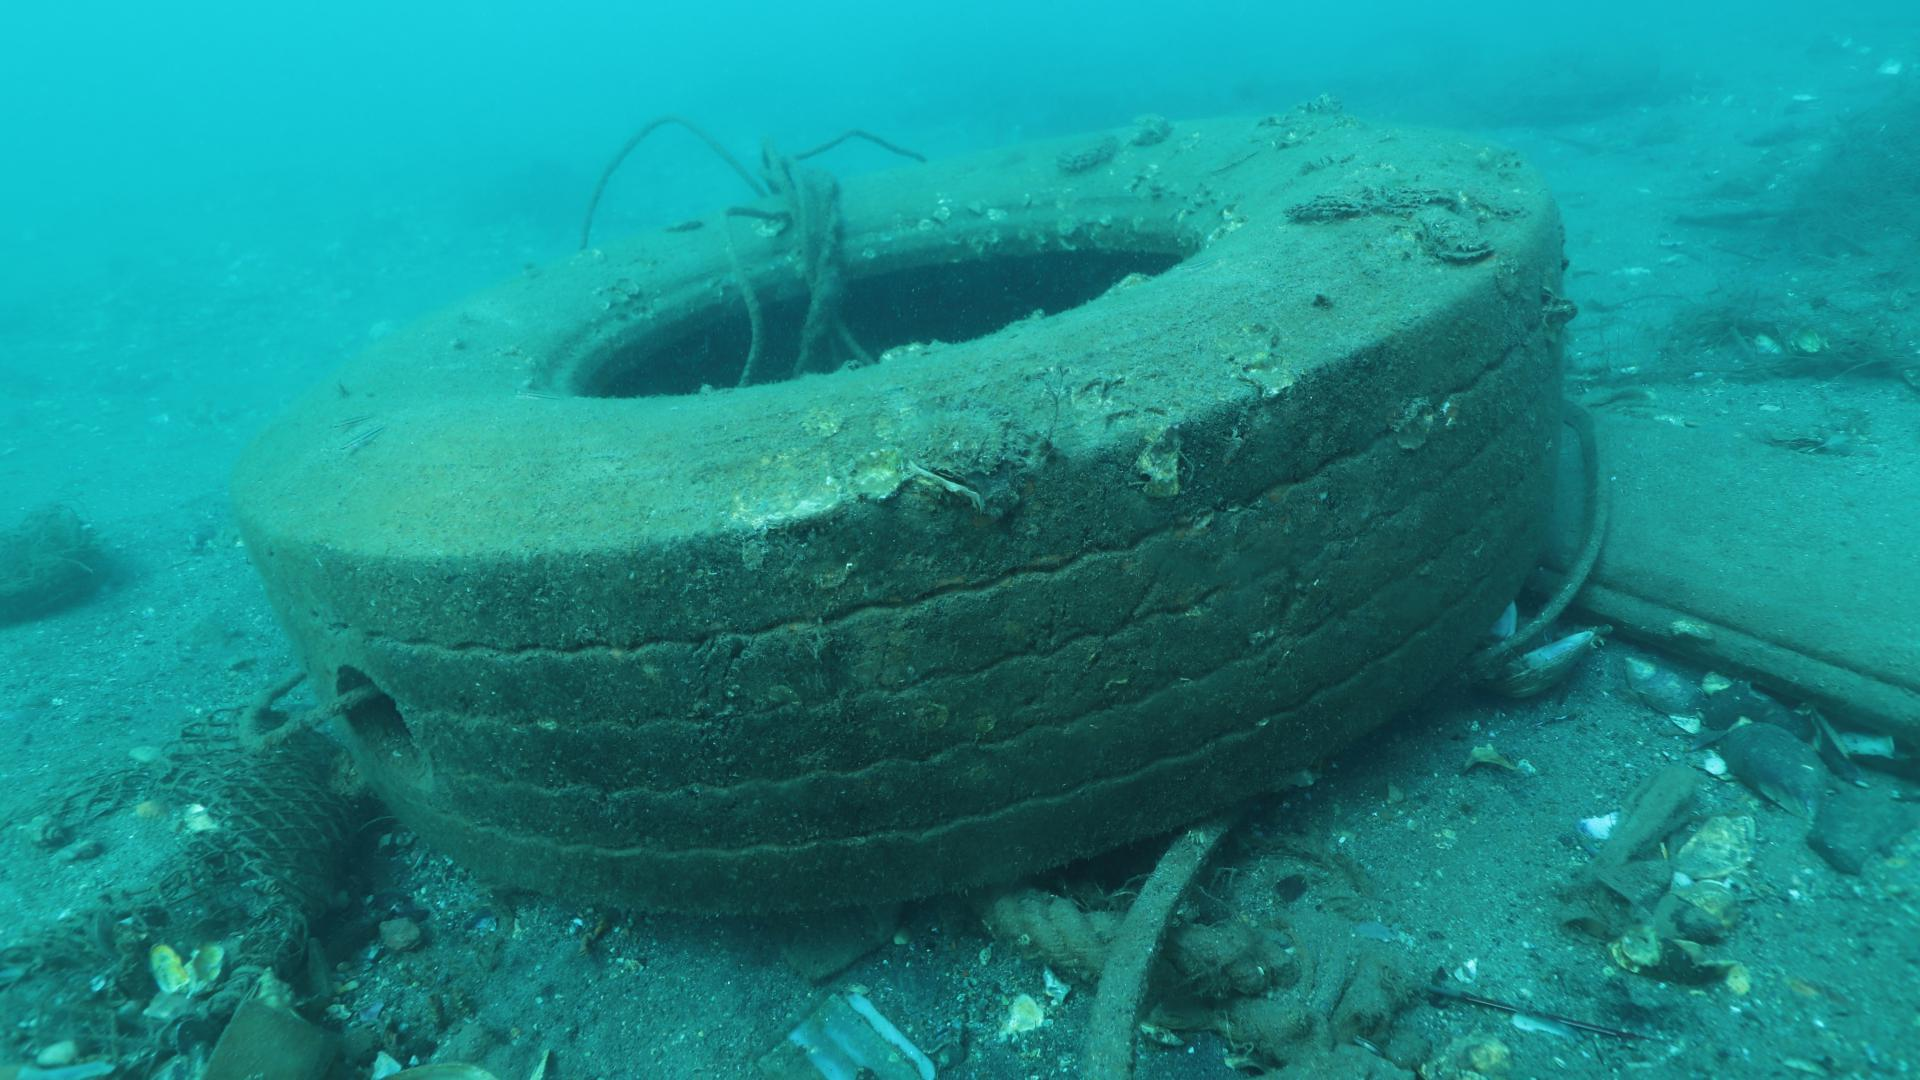bundle of ropes: (572, 115, 928, 384)
fish net: (142, 707, 359, 931)
rope: (972, 887, 1130, 978)
tire: (227, 113, 1560, 918)
